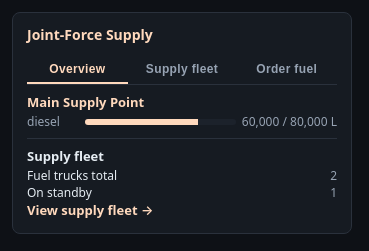
Test: SupplyPanel › Supply fleet tab lists trucks with their availability (W11)
The width and height of the screenshot is (369, 251).
Check: the text with test id "fleet-total" reads "2", box x1=330 y1=167 x2=337 y2=184
Check: the text with test id "fleet-standby" reads "1", box x1=330 y1=184 x2=337 y2=201
// The fleet tab lists each truck with availability (assigned unit resolved via refuelTargets).
Click the tab with test id "supply-tab-fleet" at (182, 70), box x1=132 y1=56 x2=232 y2=84
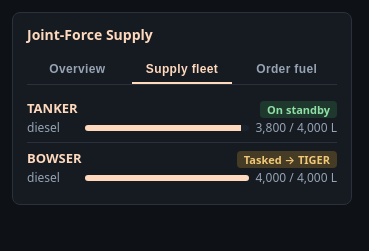
Check: the text with test id "truck-status-inst-fuel-1" reads "On standby", box x1=267 y1=102 x2=330 y2=116
Check: the element with test id "supply-fleet" is shown, box x1=27 y1=93 x2=337 y2=192
Check: the text with test id "truck-status-inst-fuel-2" reads "Tasked → TIGER", box x1=244 y1=152 x2=330 y2=166
